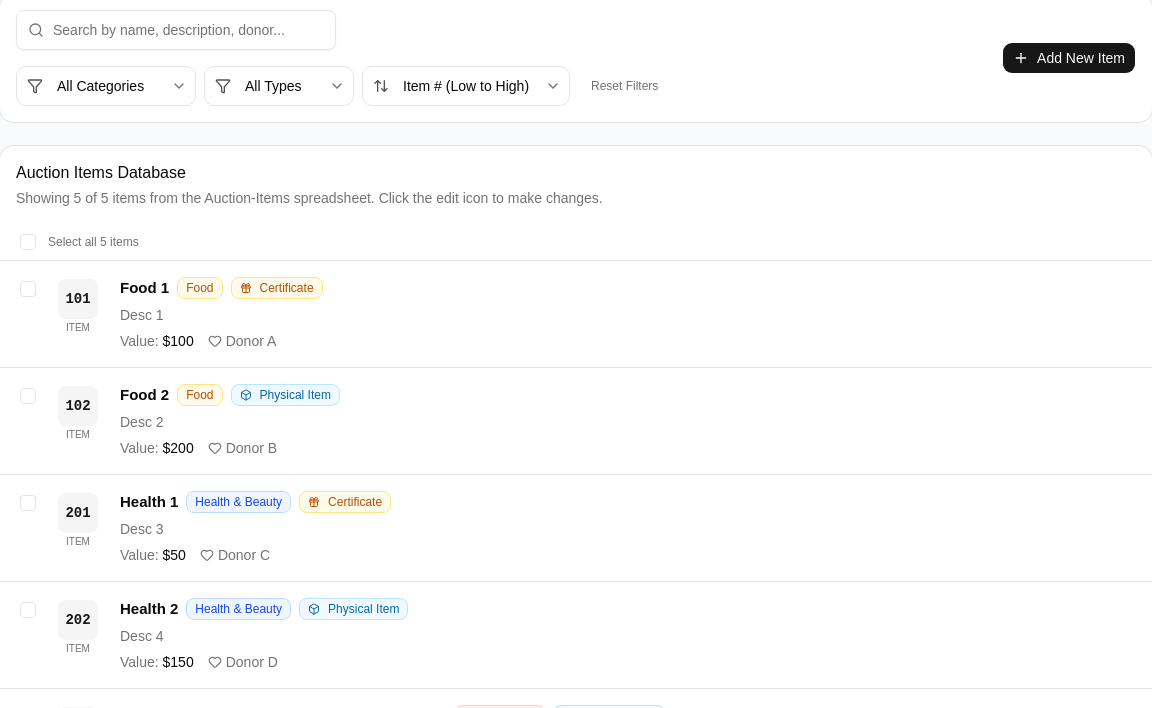
Test: AuctionItemsTab - standard items › marks a standard item, and lets someone who isn't an Administrator neither select, edit nor delete it
Note: Select all takes every other item, and counts as all of them.
Click the checkbox named "Select all items" at [28, 242], box [20,234,36,250]
(page scrolled)
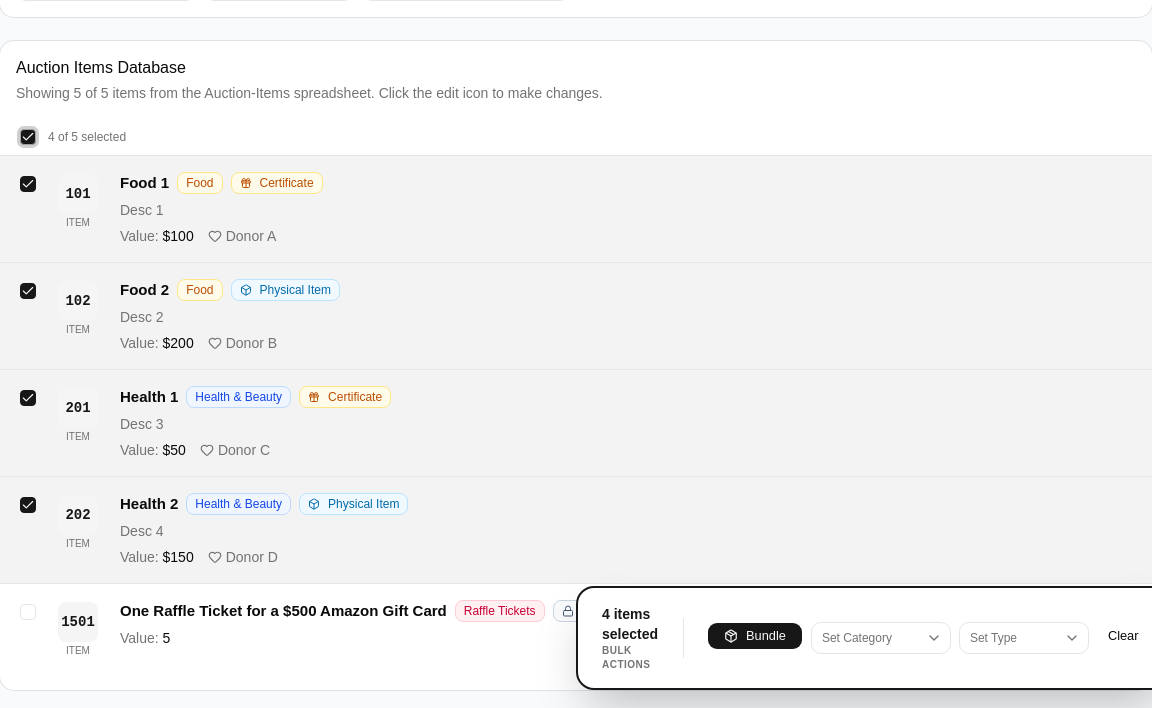
Expected: the checkbox named "Select item 1501" is not checked, [20,604,36,620]
Now the checkbox named "Select all items" is checked, box [20,129,36,145]
Now the text "4 of 5 selected" is shown, box [48,129,126,145]
